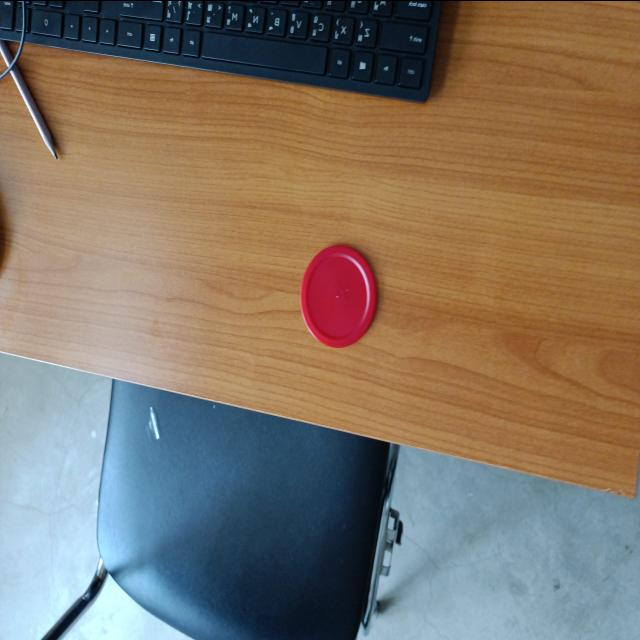chip: (299, 242, 377, 350)
